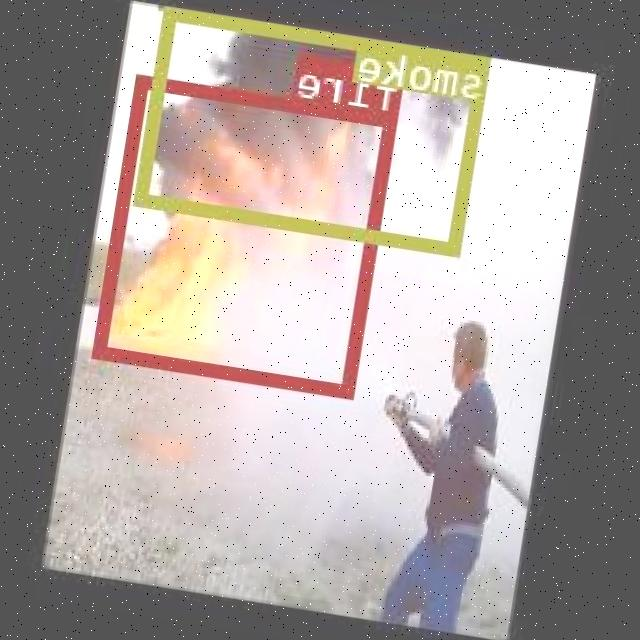fire: (97, 74, 400, 396)
smoke: (136, 7, 492, 255)
